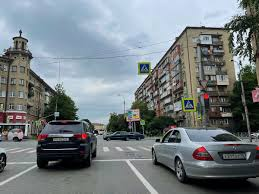Car: (152, 127, 256, 182), (38, 120, 97, 167), (104, 131, 144, 140)
